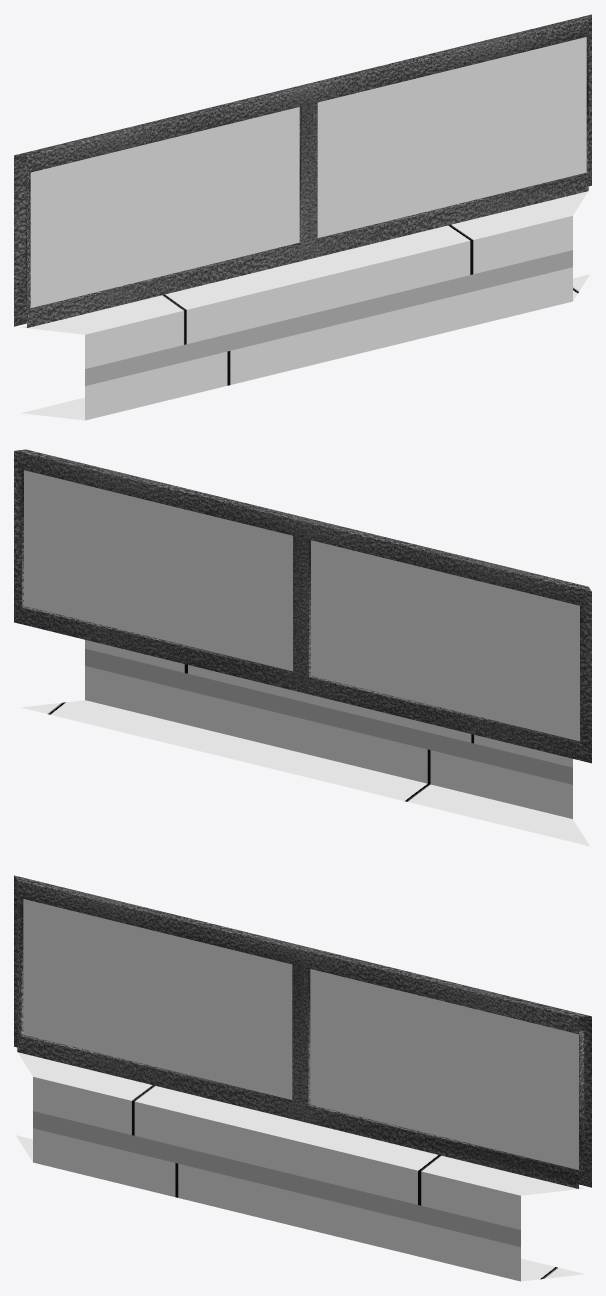
The model's file is Parapet02_350cmAngle5.FBX.
3 views of the same model, one above another, from view 1: azimuth 30°, elevation 25°; view 2: azimuth 150°, elevation 25°; view 3: azimuth 330°, elevation 25° (orthographic).
Parts seen in each view (by area): view 1: Parapet02_350cmAngle5; view 2: Parapet02_350cmAngle5; view 3: Parapet02_350cmAngle5.
Boxes of the visible parts, bbox=[...] form: Parapet02_350cmAngle5: bbox=[14, 14, 591, 420]; Parapet02_350cmAngle5: bbox=[14, 449, 591, 846]; Parapet02_350cmAngle5: bbox=[14, 875, 591, 1281].
Size of the model in its own units: 352 by 150 by 27.5.
